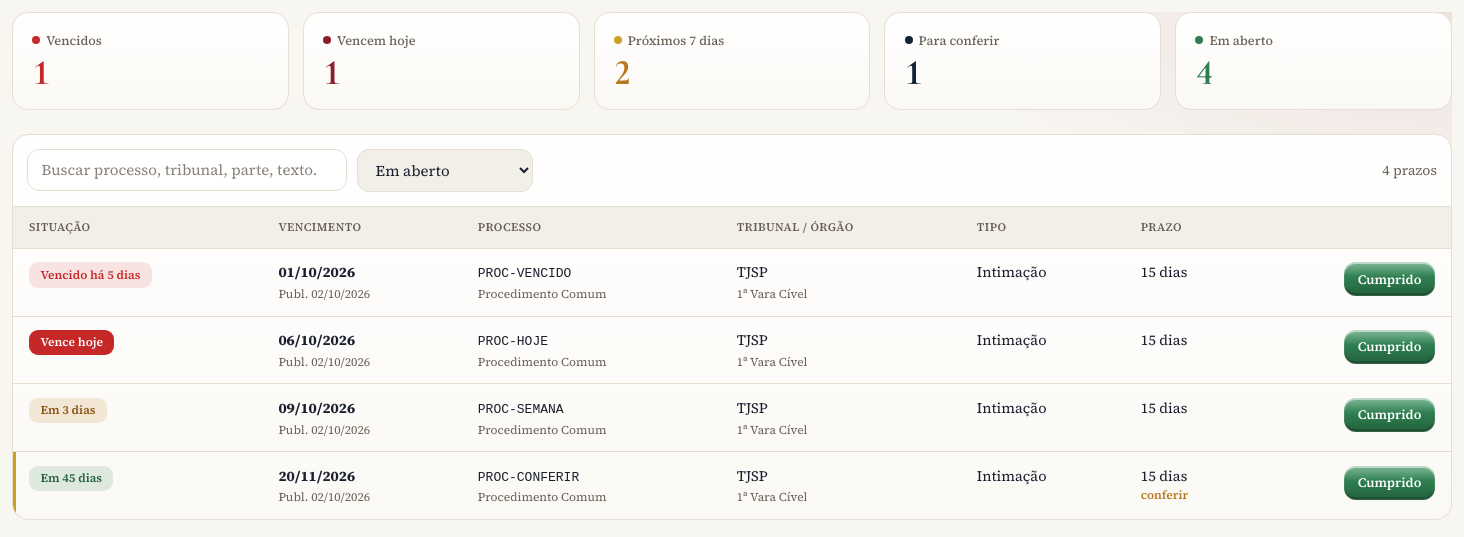
Test: tela de Prazos › sem filtros que casem, avisa; sem nenhum prazo, guia a primeira utilização
Type "nada disso" into the search field named "Buscar prazos" at (187, 170), box [27, 149, 347, 191]
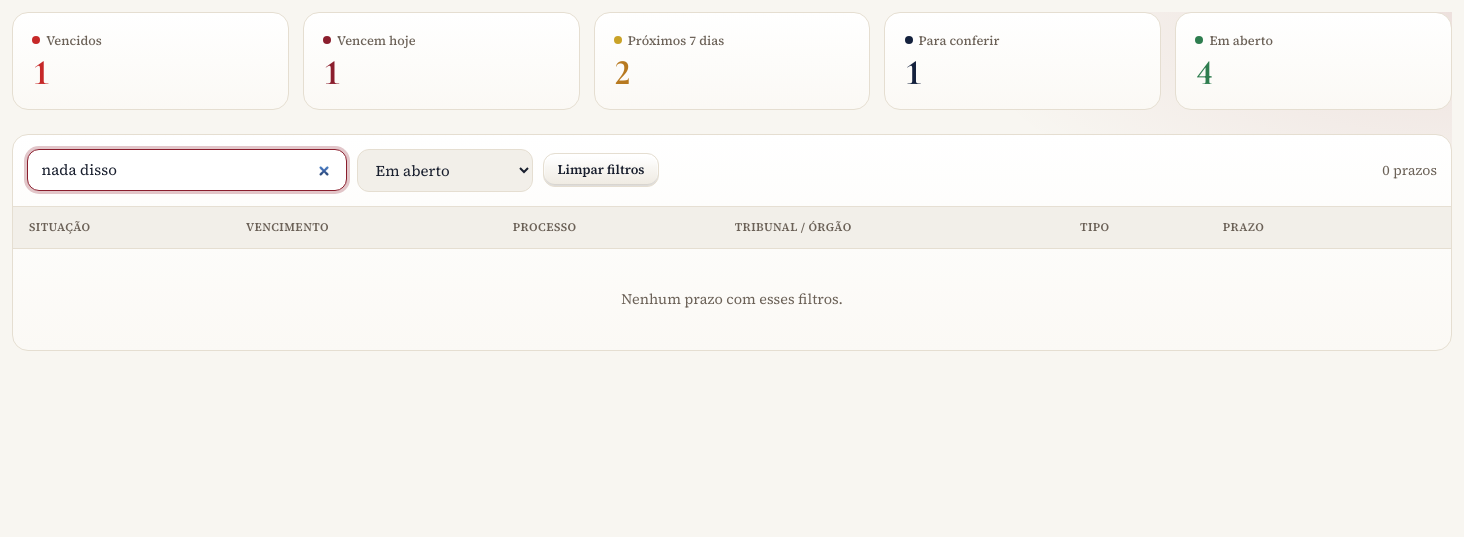
Check: the text "Nenhum prazo com esses filtros." is shown, box [13, 248, 1451, 350]
